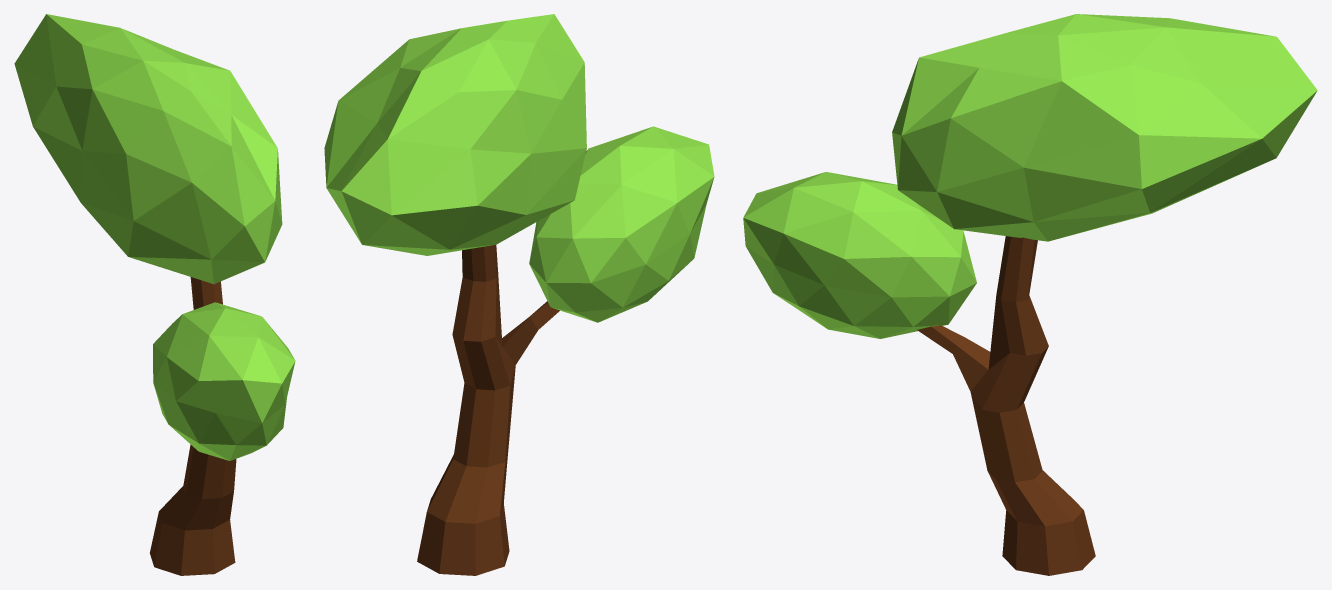
File: Drzewa1.fbx
3 renders of one model, left to right at view 1: azimuth 30°, elevation 25°; view 2: azimuth 150°, elevation 25°; view 3: azimuth 270°, elevation 25°, orthographic. The views are drawn at different scales.
Parts seen in each view (by area): view 1: Icosphere; view 2: Icosphere; view 3: Icosphere.
Boxes of the visible parts, box(x1,y1,x2,y2) form: Icosphere: box(14, 14, 295, 575); Icosphere: box(324, 14, 714, 575); Icosphere: box(743, 14, 1317, 575).
Size of the model in its own units: 456 by 1095 by 1089.
